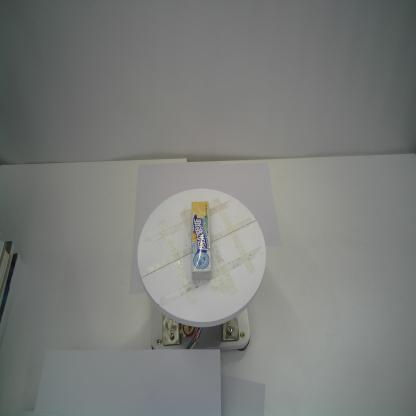Candy: (191, 201, 212, 281)
